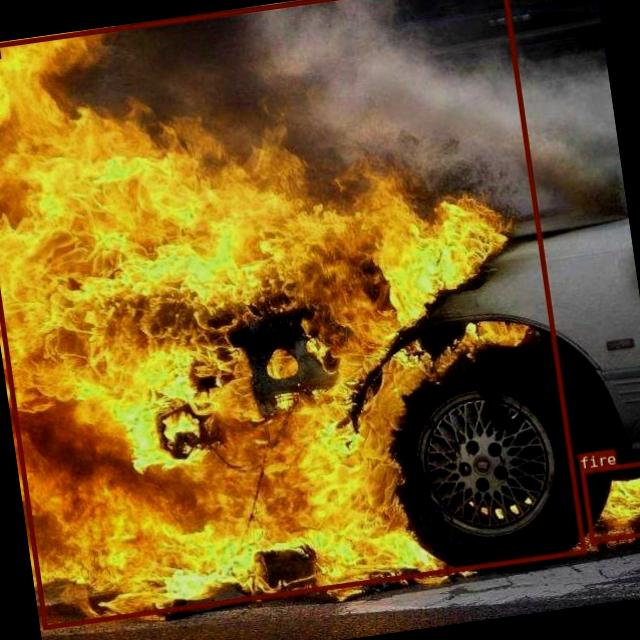fire: (0, 0, 585, 629), (579, 459, 640, 543)
